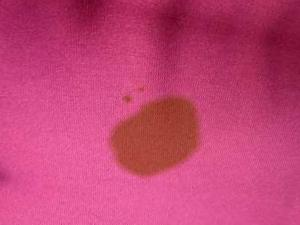stain: (106, 95, 204, 181), (135, 82, 148, 99), (119, 94, 133, 109)
